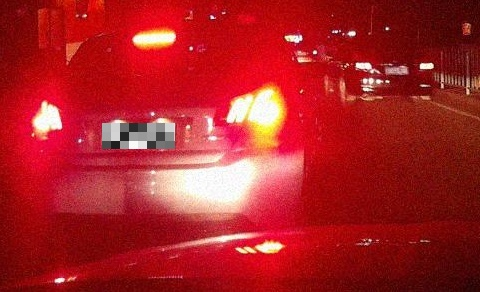L_light: (32, 101, 67, 141), (355, 62, 372, 70)
R_light: (213, 84, 286, 138), (419, 62, 433, 70)
T_light: (132, 30, 175, 47), (377, 38, 391, 42)
night-brake: (31, 23, 302, 246)
night-no: (352, 35, 434, 106)
plate_1: (102, 123, 175, 149)
